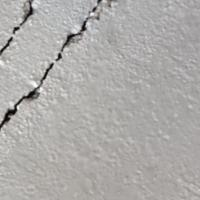crack: (1, 0, 102, 134)
